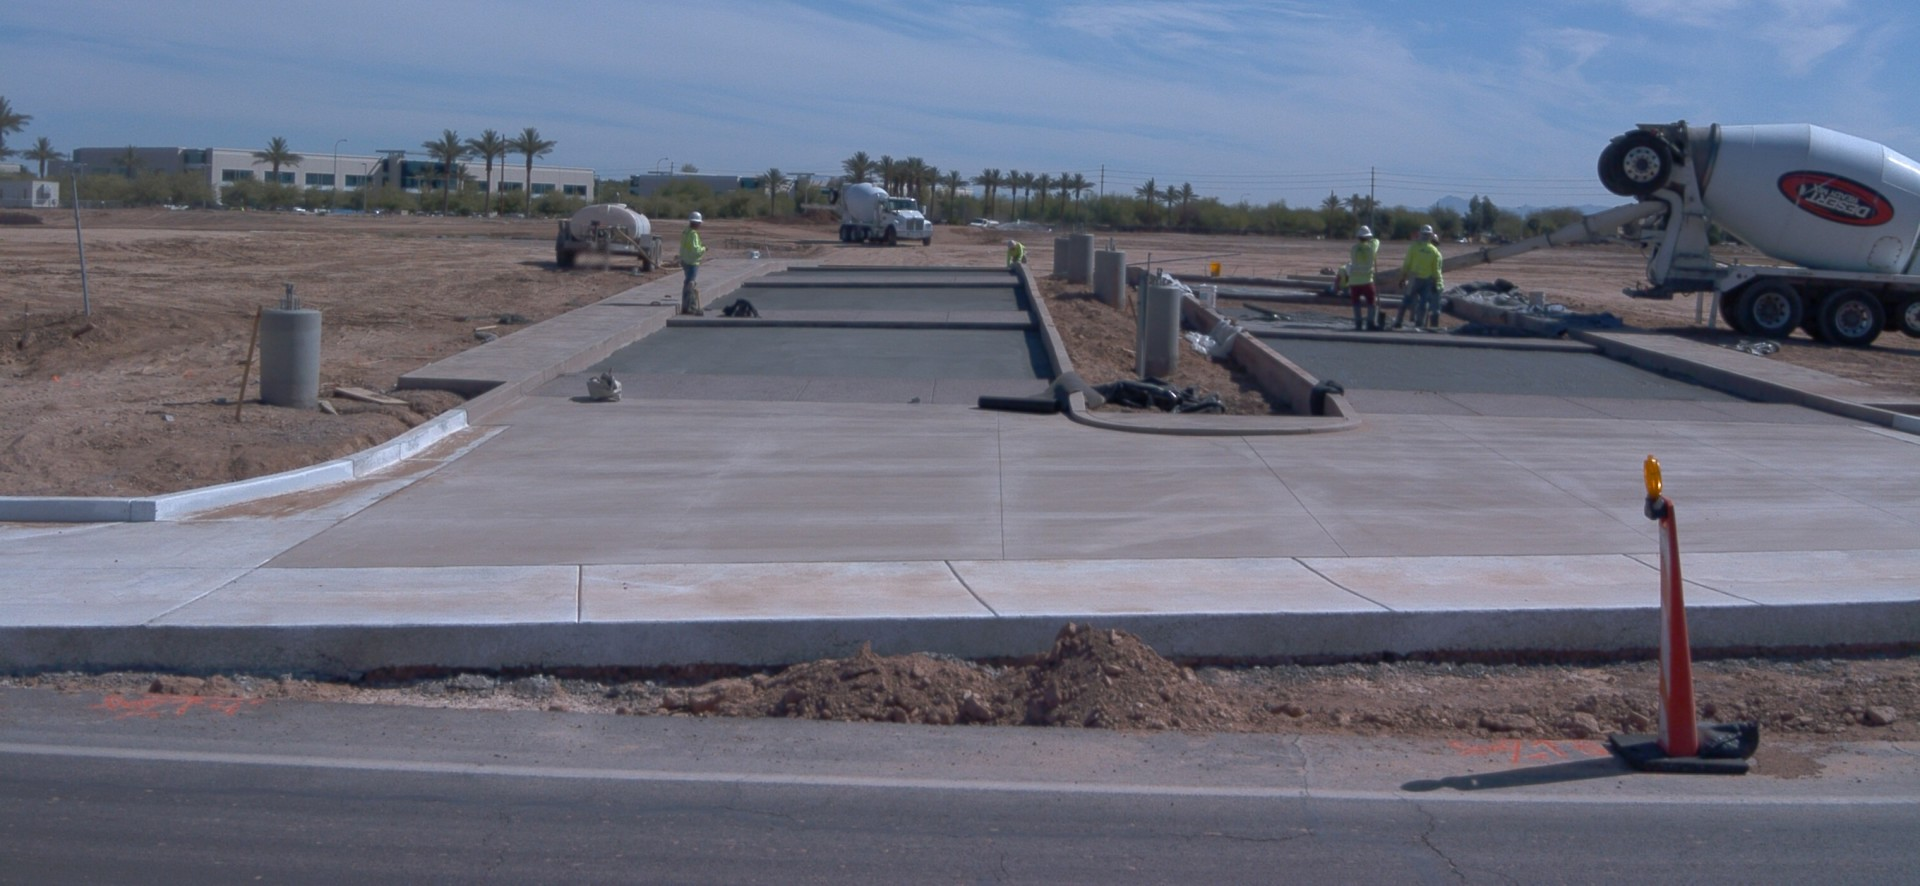TYPE_PEDESTRIAN: (1385, 221, 1443, 334), (1347, 220, 1387, 330), (677, 209, 711, 318), (1421, 227, 1445, 331), (1329, 261, 1351, 300), (1004, 236, 1028, 268)
TYPE_VEHICLE: (1347, 119, 1919, 347), (552, 199, 664, 273), (825, 176, 935, 249), (967, 216, 998, 230)
